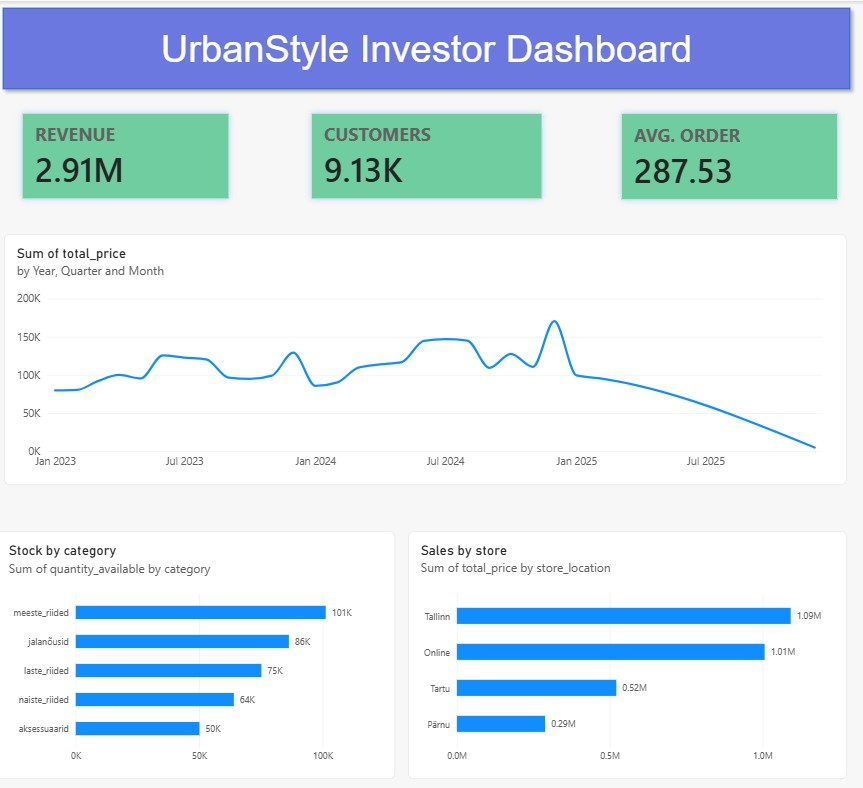

This screenshot's page, from the dashboard's own definition file:
{"tool":"powerbi","page":{"name":"Page 1","canvas":[1920,1080],"ordinal":0},"visuals":[{"type":"barChart","title":"Sales by store","fields":{"Category":["public sales.store_location"],"Y":["Sum(public sales.total_price)"]},"box":[548,704.9,583.9,329.9],"z":0},{"type":"barChart","title":"Stock by category","fields":{"Category":["public products.category"],"Y":["Sum(public inventory.quantity_available)"]},"box":[0,704.7,531.1,329.7],"z":1000},{"type":"shape","box":[0,0,1131.9,126.4],"z":2000},{"type":"cardVisual","fields":{"Data":["Sum(public sales.total_price)"]},"box":[23.9,138.3,297.9,137],"z":3000},{"type":"cardVisual","fields":{"Data":["CountNonNull(public sales.customer_id)"]},"box":[408.3,138.3,329.9,137],"z":4000},{"type":"cardVisual","fields":{"Data":["Avg(public sales.total_price)"]},"box":[820.6,138.3,311.2,137],"z":4001},{"type":"lineChart","fields":{"Category":["public sales.sale_date.Variation.Date Hierarchy.Year","public sales.sale_date.Variation.Date Hierarchy.Quarter","public sales.sale_date.Variation.Date Hierarchy.Month","public sales.sale_date.Variation.Date Hierarchy.Day"],"Y":["Sum(public sales.total_price)"]},"box":[10.6,309.9,1121.2,333.8],"z":4002}]}

Visuals, with their boxes on the page's 1920x1080 design canvas (x1, y1, x2, y2). These are canvas units, not pixel positions in the 863x788 screenshot, which may show the page scaled, cropped or inside an application window:
"Sales by store" barChart: x1=548 y1=705 x2=1132 y2=1035
"Stock by category" barChart: x1=0 y1=705 x2=531 y2=1034
shape: x1=0 y1=0 x2=1132 y2=126
cardVisual - Sum(public sales.total_price): x1=24 y1=138 x2=322 y2=275
cardVisual - CountNonNull(public sales.customer_id): x1=408 y1=138 x2=738 y2=275
cardVisual - Avg(public sales.total_price): x1=821 y1=138 x2=1132 y2=275
lineChart - public sales.sale_date.Variation.Date Hierarchy.Year x public sales.sale_date.Variation.Date Hierarchy.Quarter: x1=11 y1=310 x2=1132 y2=644
